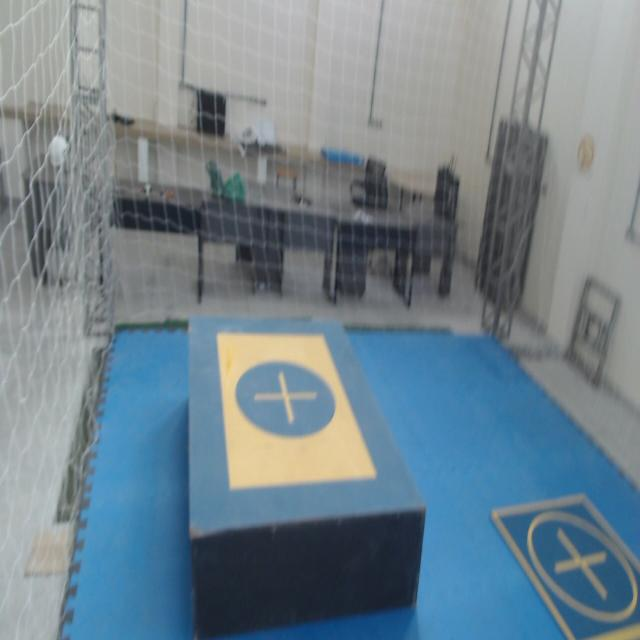base_inicio: (215, 331, 378, 487)
base_pouso: (488, 492, 640, 639)
